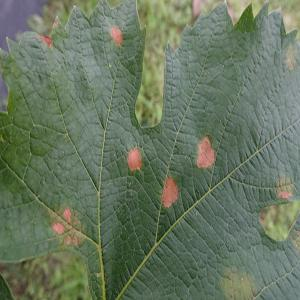Folha: (0, 0, 299, 299)
Fungo: (52, 207, 78, 246), (196, 134, 215, 169), (162, 177, 178, 208), (126, 147, 142, 171), (110, 25, 122, 46), (38, 33, 52, 47), (51, 221, 65, 234), (62, 207, 72, 222), (65, 234, 71, 245), (72, 235, 78, 246)
